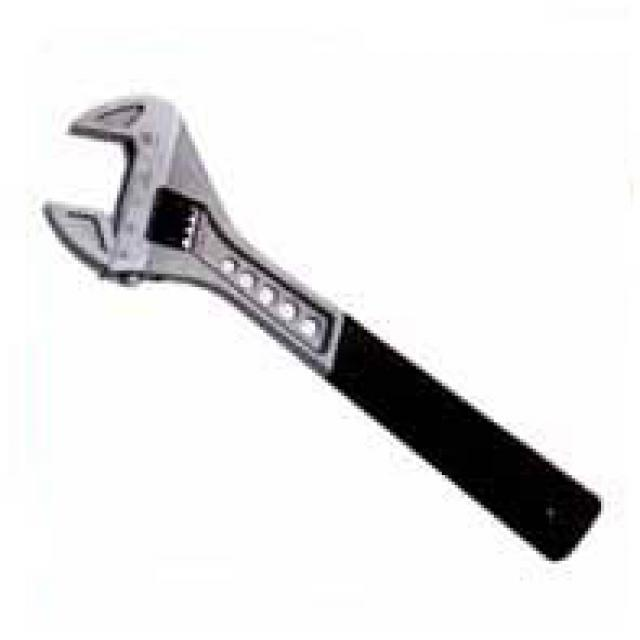wrench: (32, 82, 610, 570)
